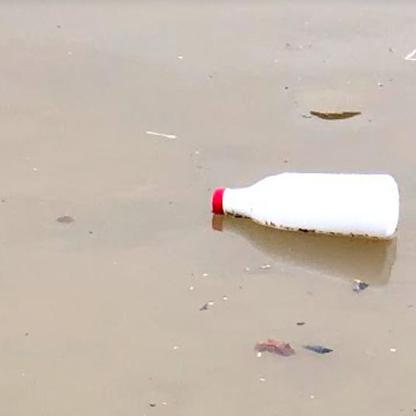plastic bottle: (211, 171, 399, 239)
